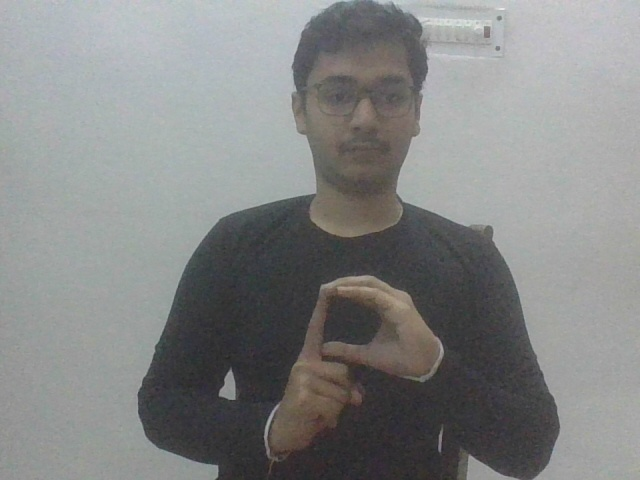D: (266, 272, 441, 465)
